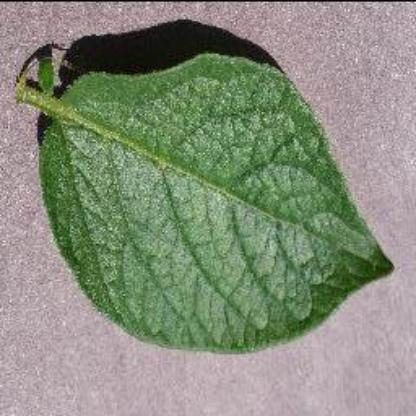Healthy-plant: (14, 33, 396, 359)
